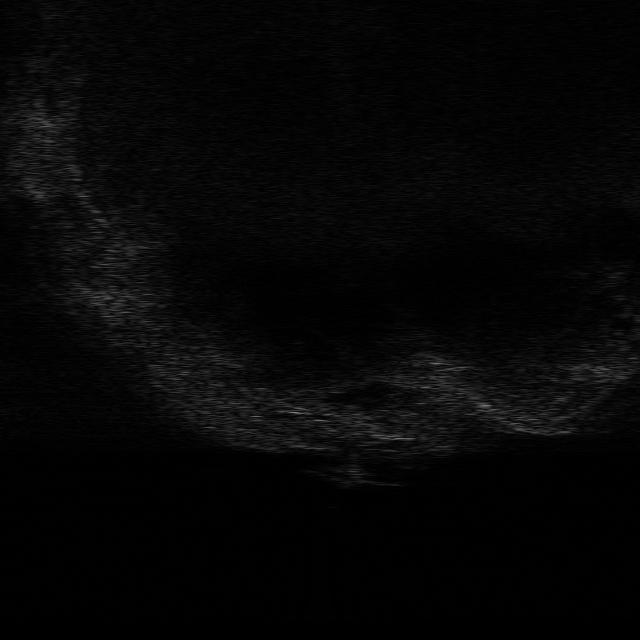plane: (305, 461, 401, 491)
